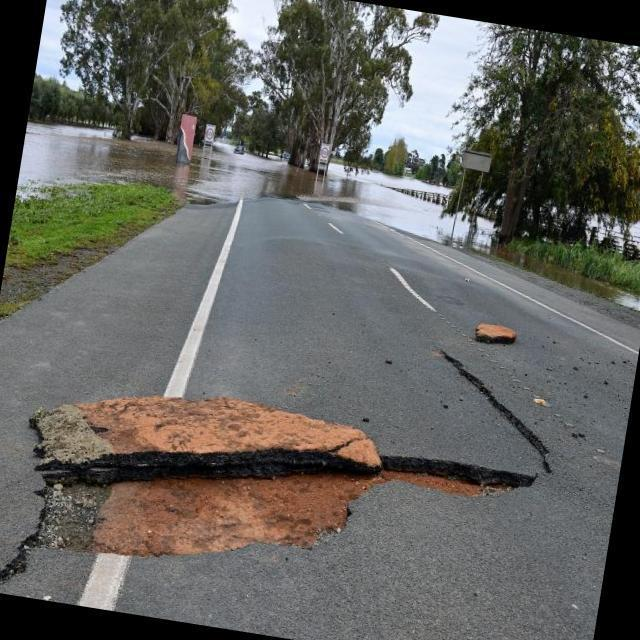Pothole: (22, 397, 530, 561)
